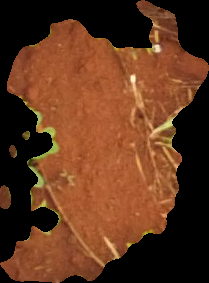soil: (3, 2, 208, 281)
